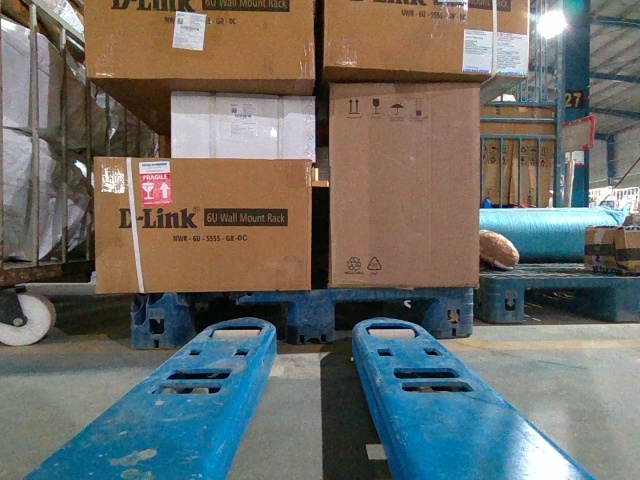pallet: (134, 286, 474, 345)
